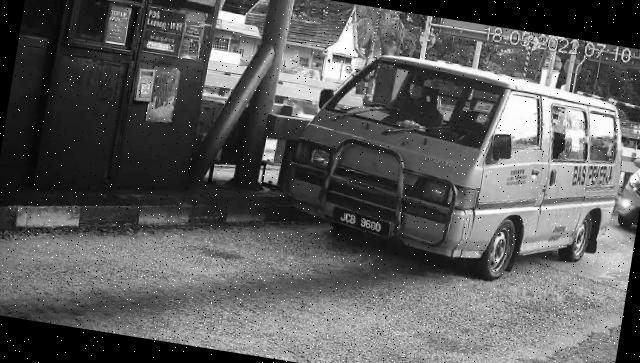License_Plate: (330, 205, 395, 241)
van: (275, 41, 634, 298)
